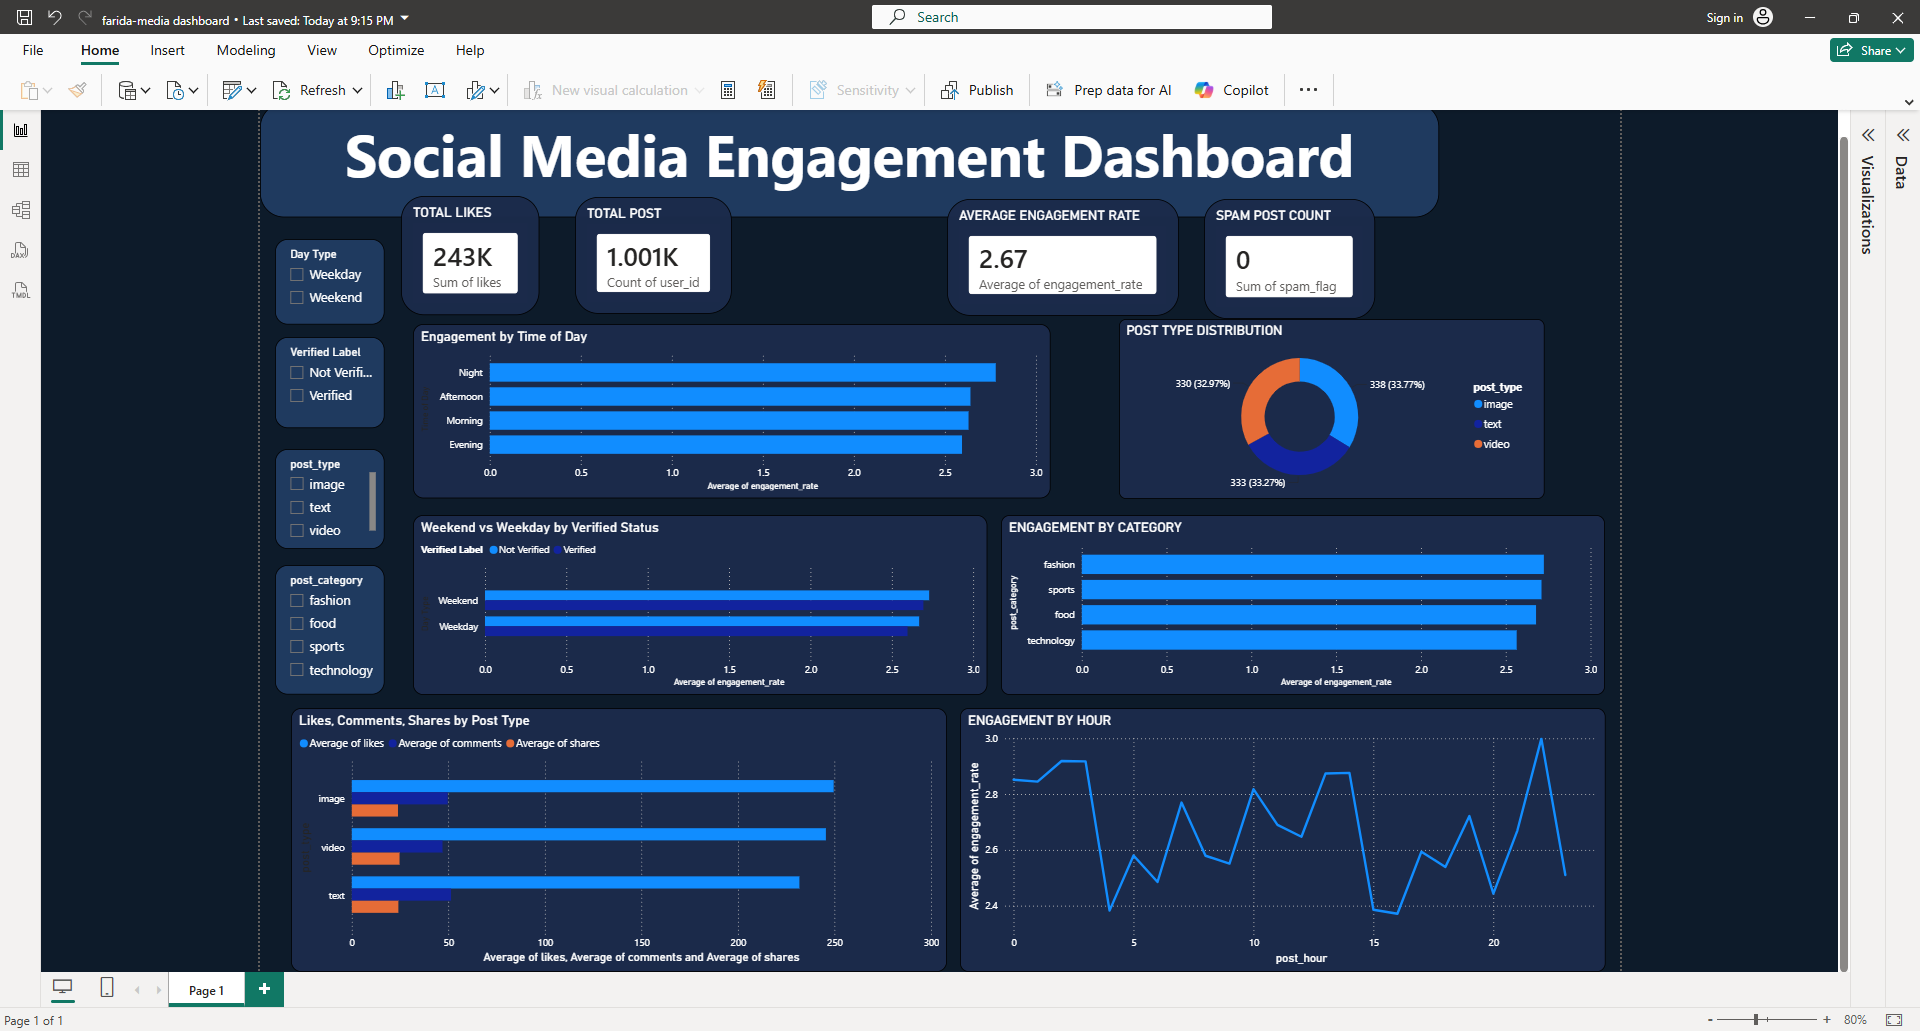

What the dashboard file says about the page in this screenshot:
{"tool":"powerbi","page":{"name":"Page 1","canvas":[1700,1100],"ordinal":0},"visuals":[{"type":"donutChart","title":"POST TYPE DISTRIBUTION","fields":{"Category":["mediarates.post_type"],"Y":["CountNonNull(mediarates.user_id)"]},"box":[1073.3,283.3,531.7,225],"z":3000},{"type":"barChart","title":"ENGAGEMENT BY CATEGORY","fields":{"Category":["mediarates.post_category"],"Y":["Avg(mediarates.engagement_rate)"]},"box":[926.7,528.3,755,225],"z":4000},{"type":"clusteredBarChart","title":"Likes, Comments, Shares by Post Type","fields":{"Category":["mediarates.post_type"],"Y":["Avg(mediarates.likes)","Avg(mediarates.comments)","Avg(mediarates.shares)"]},"box":[38.3,770,820,330],"z":5000},{"type":"lineChart","title":"ENGAGEMENT BY HOUR","fields":{"Category":["mediarates.post_hour"],"Y":["Avg(mediarates.engagement_rate)"]},"box":[875,770,806.7,330],"z":6000},{"type":"clusteredBarChart","title":"Weekend vs Weekday by Verified Status","fields":{"Category":["mediarates.Day Type"],"Y":["Avg(mediarates.engagement_rate)"],"Series":["mediarates.Verified Label"]},"box":[191.7,528.3,718.3,225],"z":7000},{"type":"barChart","title":"Engagement by Time of Day","fields":{"Category":["mediarates.Time of Day"],"Y":["Avg(mediarates.engagement_rate)"]},"box":[191.7,290,796.7,218.3],"z":8000},{"type":"slicer","fields":{"Values":["mediarates.post_type"]},"box":[18.9,445.8,137.3,125.4],"z":9000},{"type":"slicer","fields":{"Values":["mediarates.post_category"]},"box":[18.3,591.7,136.7,161.7],"z":10000},{"type":"slicer","fields":{"Values":["mediarates.Day Type"]},"box":[18.9,184.1,137.3,107.5],"z":11000},{"type":"slicer","fields":{"Values":["mediarates.Verified Label"]},"box":[18.9,306.5,137.3,114.4],"z":12000},{"type":"textbox","box":[0,13.9,1473.6,143.3],"z":13000},{"type":"cardVisual","title":"TOTAL LIKES","fields":{"Data":["Sum(mediarates.likes)"]},"box":[176.1,130.3,173.1,149.3],"z":14000},{"type":"cardVisual","title":"TOTAL POST","fields":{"Data":["CountNonNull(mediarates.user_id)"]},"box":[394,131.3,196,146.3],"z":14500},{"type":"cardVisual","title":"AVERAGE ENGAGEMENT RATE","fields":{"Data":["Avg(mediarates.engagement_rate)"]},"box":[858.7,133.3,289.6,146.3],"z":15000},{"type":"cardVisual","title":"SPAM POST COUNT","fields":{"Data":["Sum(mediarates.spam_flag)"]},"box":[1180.1,133.3,213.9,150.2],"z":15500}]}

Visuals, with their boxes on the page's 1700x1100 design canvas (x1, y1, x2, y2). These are canvas units, not pixel positions in the 1920x1031 screenshot, which may show the page scaled, cropped or inside an application window:
"POST TYPE DISTRIBUTION" donutChart: 1073:283:1605:508
"ENGAGEMENT BY CATEGORY" barChart: 927:528:1682:753
"Likes, Comments, Shares by Post Type" clusteredBarChart: 38:770:858:1100
"ENGAGEMENT BY HOUR" lineChart: 875:770:1682:1100
"Weekend vs Weekday by Verified Status" clusteredBarChart: 192:528:910:753
"Engagement by Time of Day" barChart: 192:290:988:508
slicer - mediarates.post_type: 19:446:156:571
slicer - mediarates.post_category: 18:592:155:753
slicer - mediarates.Day Type: 19:184:156:292
slicer - mediarates.Verified Label: 19:306:156:421
textbox: 0:14:1474:157
"TOTAL LIKES" cardVisual: 176:130:349:280
"TOTAL POST" cardVisual: 394:131:590:278
"AVERAGE ENGAGEMENT RATE" cardVisual: 859:133:1148:280
"SPAM POST COUNT" cardVisual: 1180:133:1394:284
